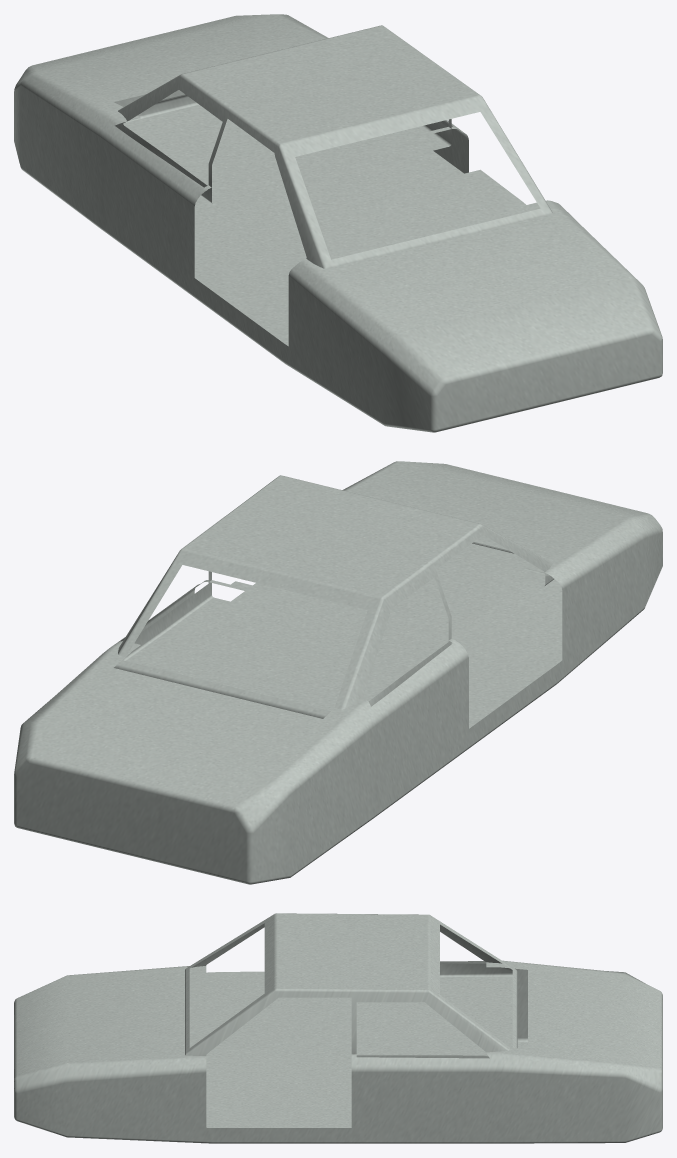
3 renders of one model, top to bottom at view 1: azimuth 30°, elevation 25°; view 2: azimuth 150°, elevation 25°; view 3: azimuth 270°, elevation 25°, orthographic. The views are drawn at different scales.
Size of the model in its own units: 1.76 by 1.12 by 4.64.
Materials: 1 (1 with a texture image).
